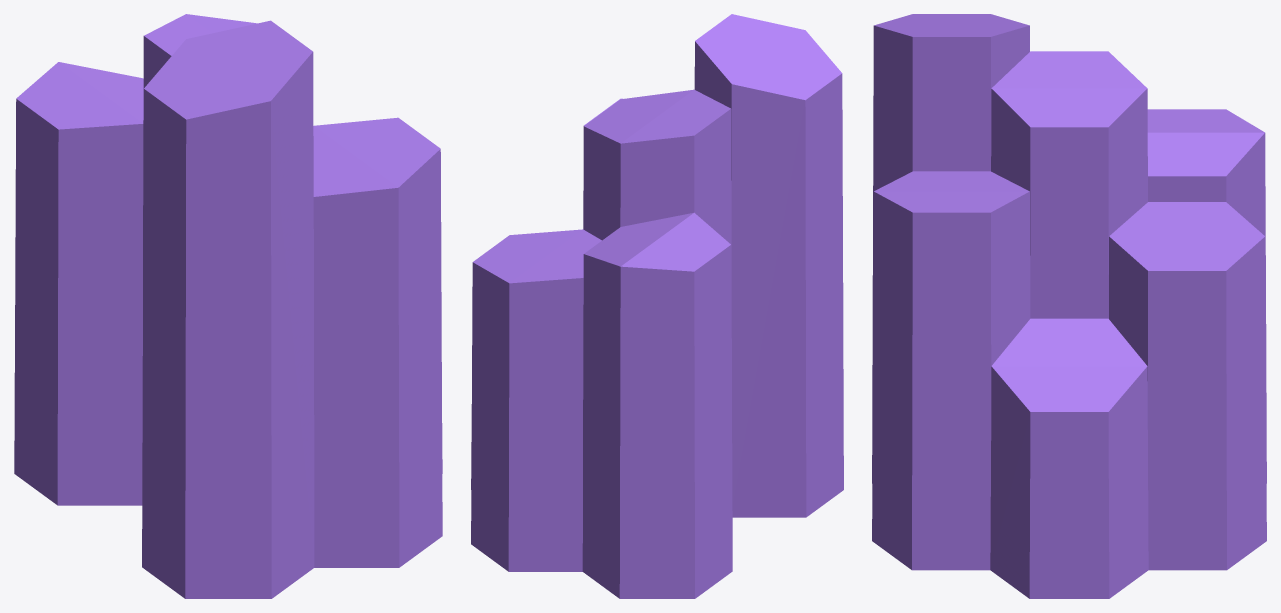
The model's file is resources_2.fbx.
The picture shows the model from 3 angles, left to right: view 1: azimuth 30°, elevation 25°; view 2: azimuth 150°, elevation 25°; view 3: azimuth 270°, elevation 25°; orthographic projection. The views are drawn at different scales.
Visible parts, largest first — view 1: resources_2; view 2: resources_2; view 3: resources_2.
Boxes of the visible parts, x1,y1,x2,y2 form: resources_2: (14,14,442,598); resources_2: (471,14,843,598); resources_2: (872,14,1266,598).
Bounding box in the file's own units: 64.14 × 98.42 × 74.1.
